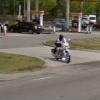Motorcycle: (44, 31, 74, 73)
